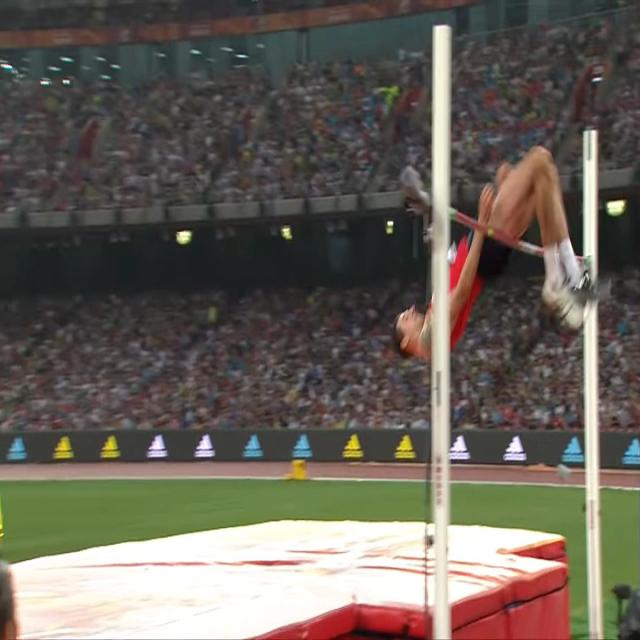jump: (391, 143, 613, 363)
